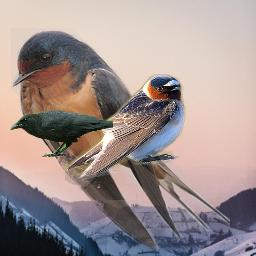Crow: (10, 110, 113, 158)
Swallow: (11, 28, 230, 249), (65, 74, 186, 181)
